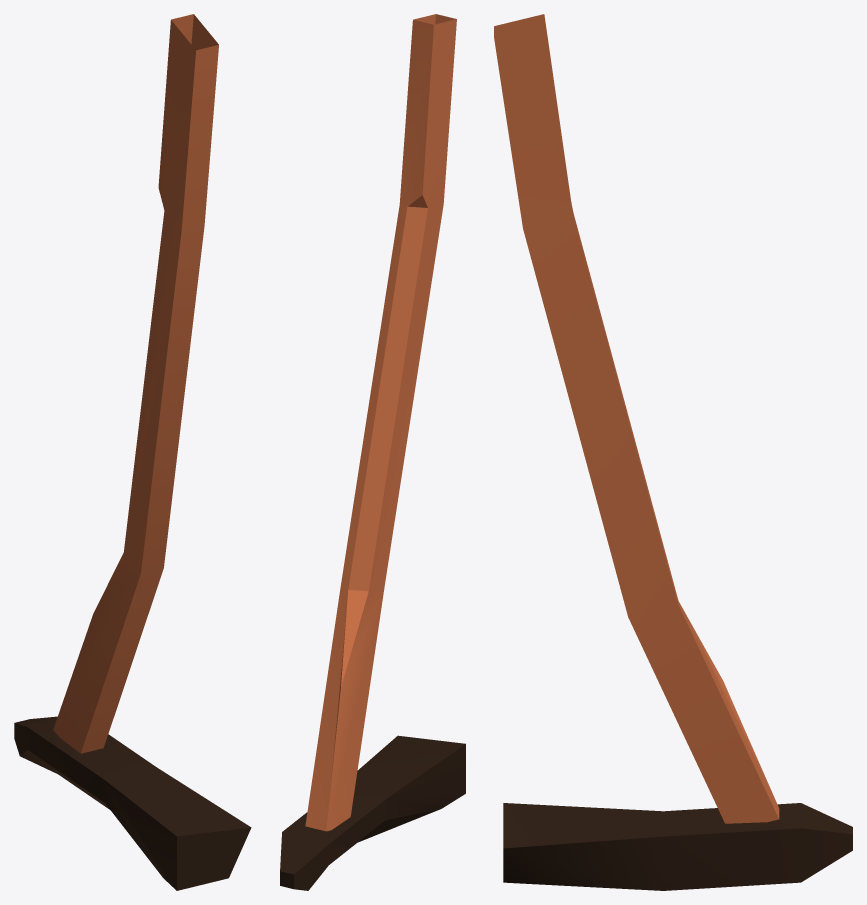
File: Fence_04.FBX
3 renders of one model, left to right at view 1: azimuth 30°, elevation 25°; view 2: azimuth 150°, elevation 25°; view 3: azimuth 270°, elevation 25°, orthographic. The views are drawn at different scales.
Visible parts, largest first — view 1: Fence_04; view 2: Fence_04; view 3: Fence_04.
Part boxes in pixels (x1,y1,x2,y2): Fence_04: [14, 14, 251, 890]; Fence_04: [280, 14, 465, 890]; Fence_04: [494, 14, 852, 890].
Bounding box in the file's own units: 0.3053 × 3.35 × 1.28.
